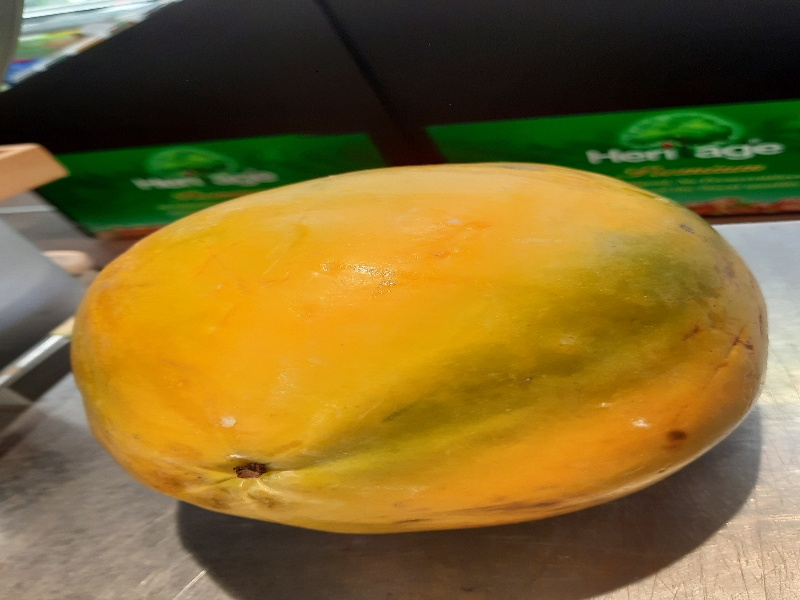fruit: (66, 149, 771, 545)
